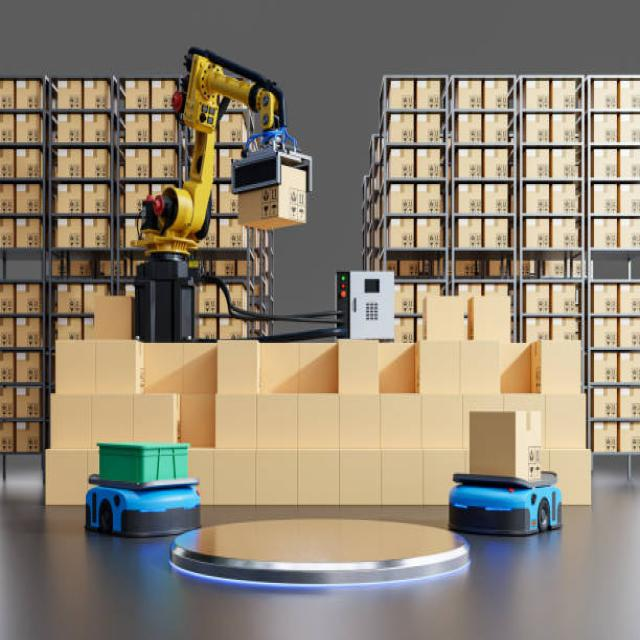Robotic-arm: (134, 42, 285, 254)
